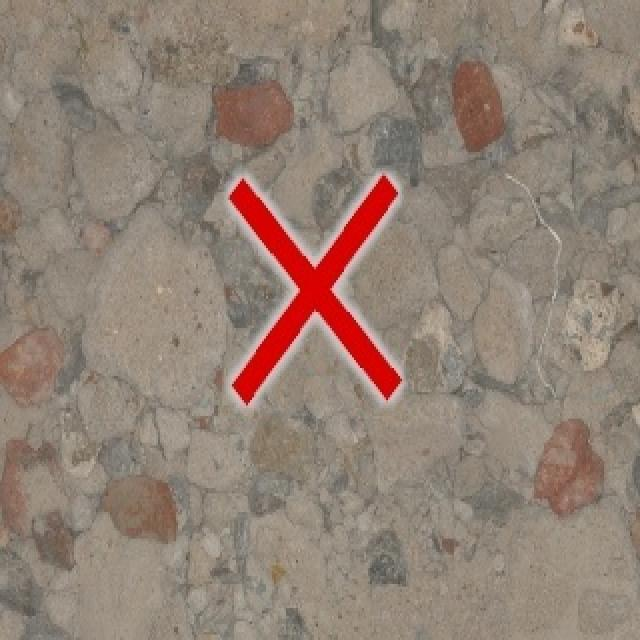x_marker: (229, 175, 399, 401)
